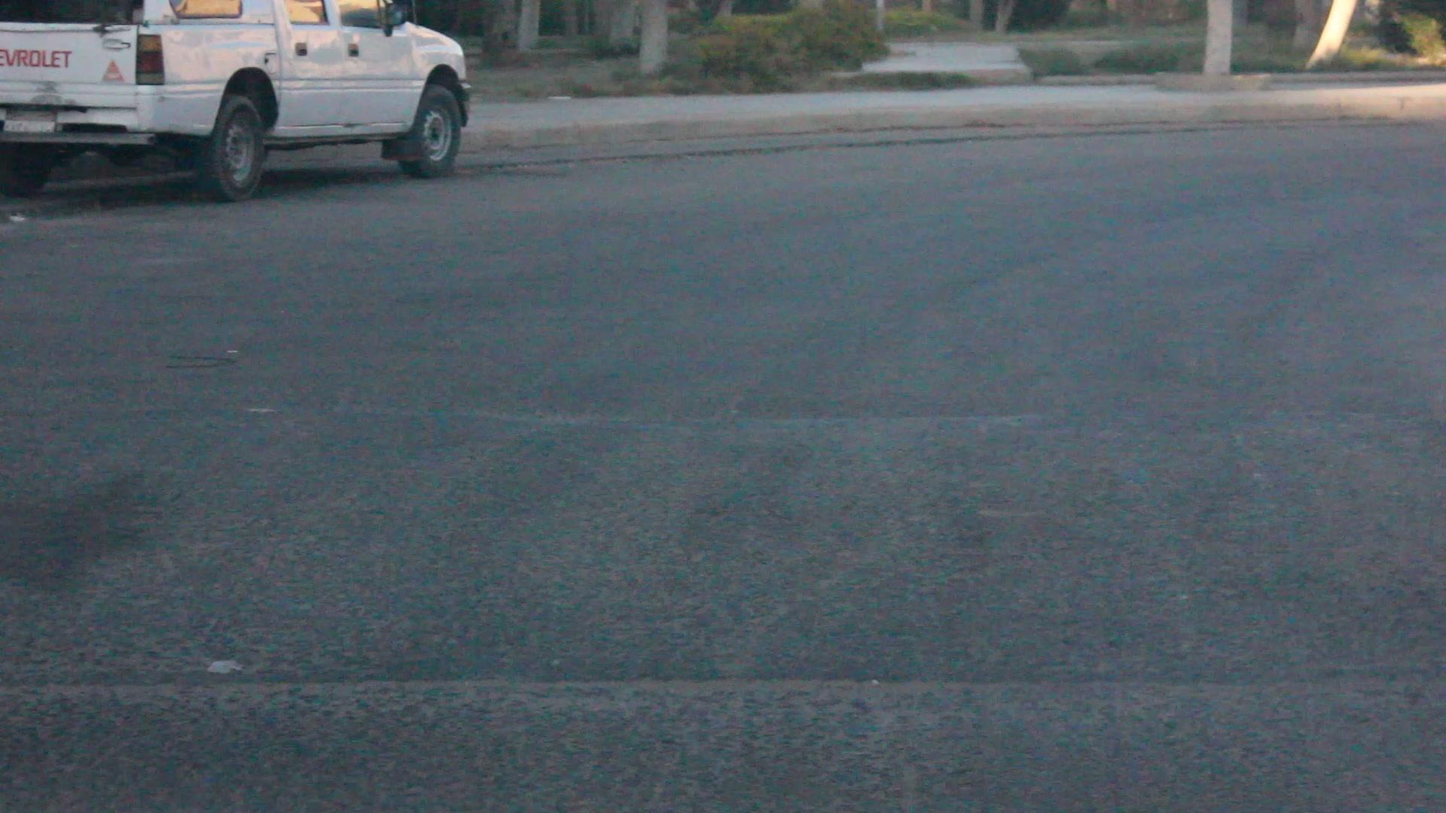Bump: (8, 401, 1446, 691)
